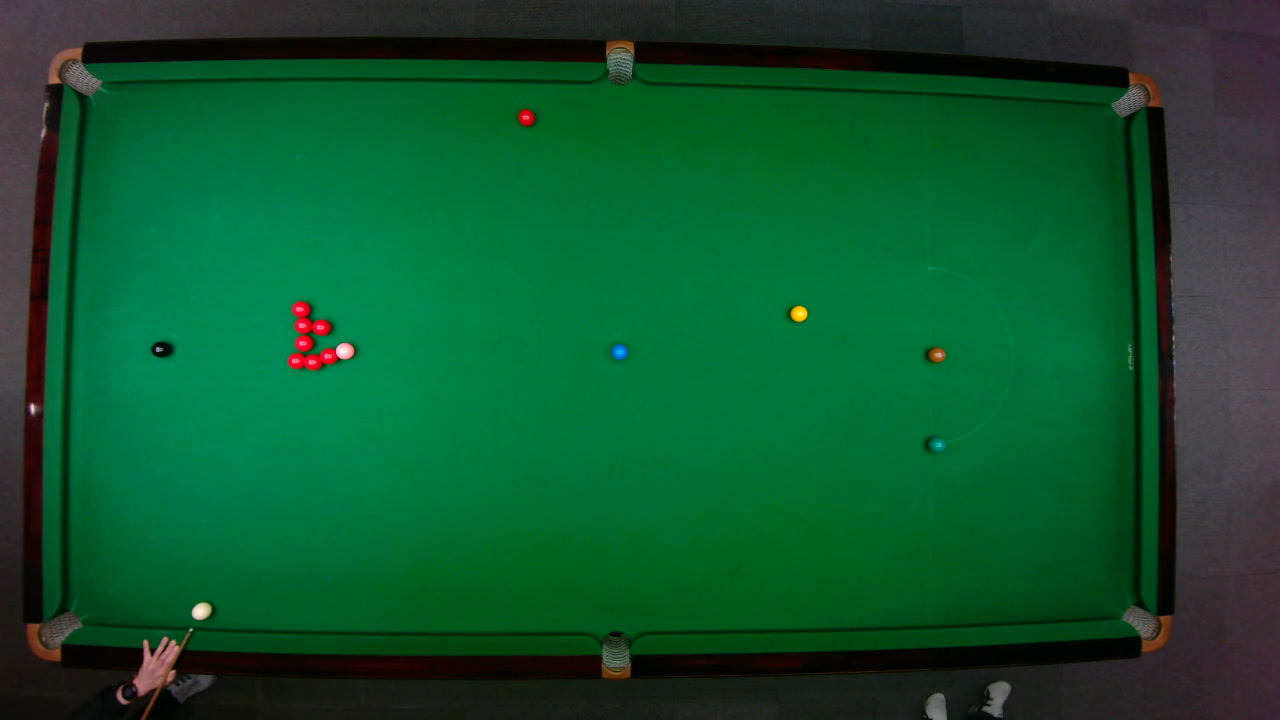bag: (25, 609, 84, 661), (45, 46, 102, 96), (1119, 603, 1172, 652), (1108, 71, 1162, 117), (600, 629, 629, 680), (605, 38, 633, 85)
black: (149, 340, 171, 357)
blue: (610, 342, 628, 360)
brown: (926, 346, 945, 362)
cue: (137, 626, 195, 719)
green: (926, 435, 946, 452)
pink: (334, 341, 355, 360)
red: (302, 352, 324, 370), (516, 107, 535, 127), (290, 299, 311, 317), (310, 317, 331, 335), (318, 346, 337, 365), (293, 334, 313, 352), (286, 351, 305, 369), (292, 317, 312, 334)
white: (190, 600, 213, 620)
yellow: (788, 303, 808, 322)
zone: (926, 265, 1013, 444)
